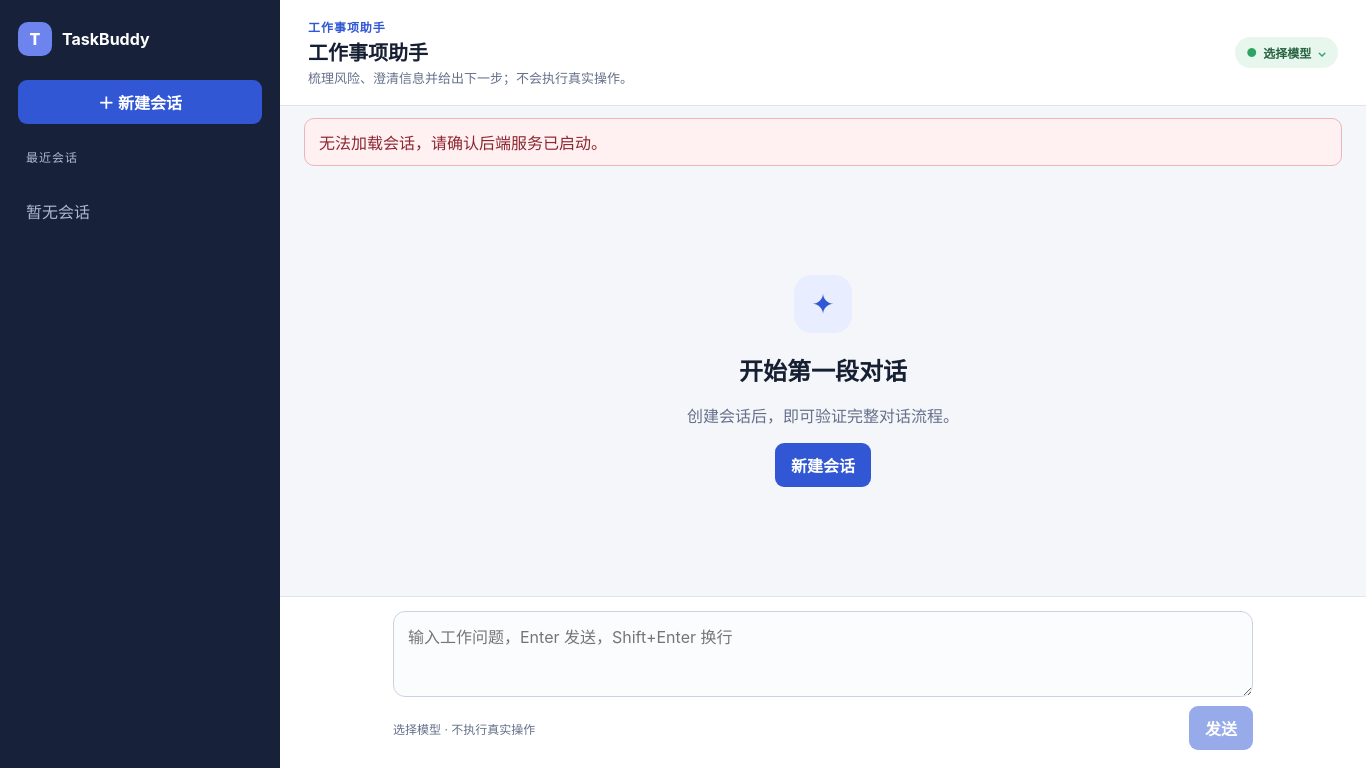
ChatApp › shows an empty state and creates the first conversation
This screenshot has width=1366, height=768.
Expected: the heading "开始第一段对话" is shown, [739,358,907,386]
Click the button "新建会话": (823, 466) [775,444,871,488]
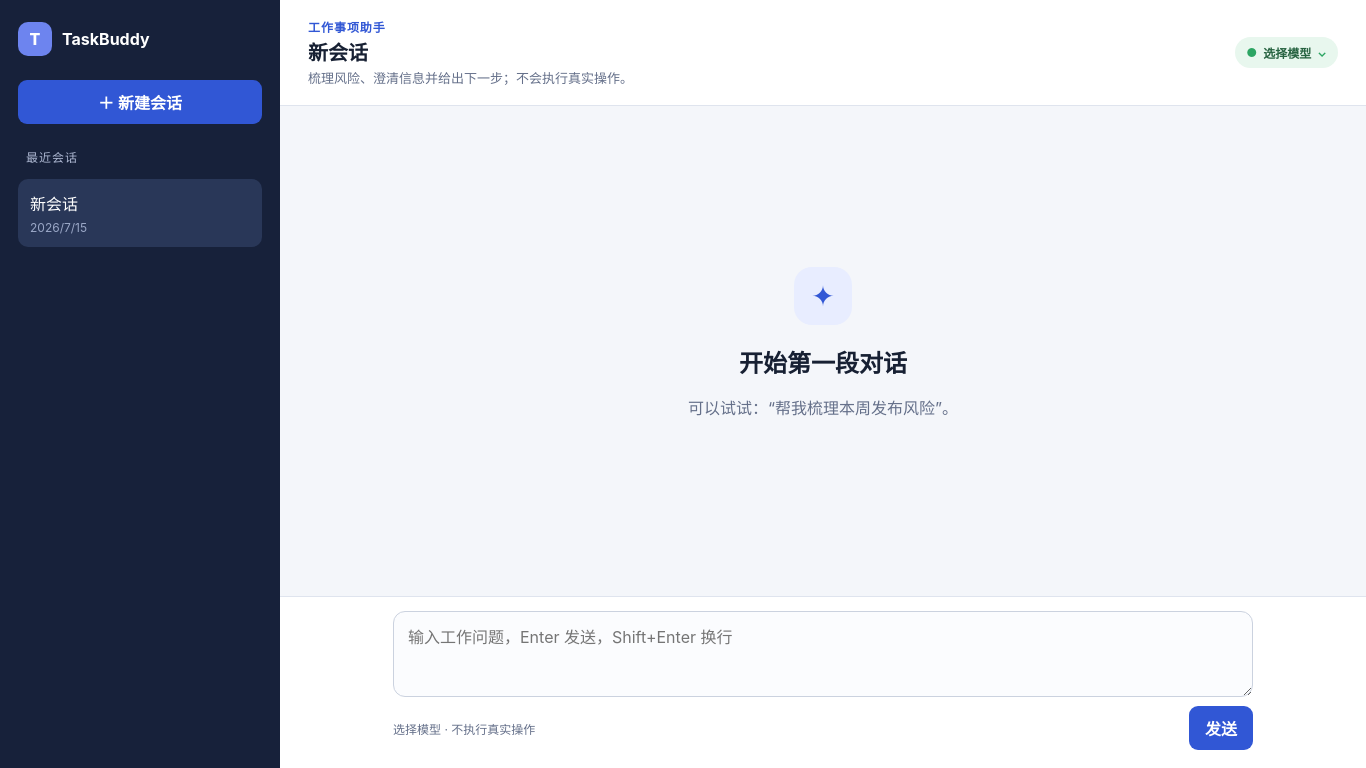
Result: the heading "新会话" is shown at [308,41,368,65]
